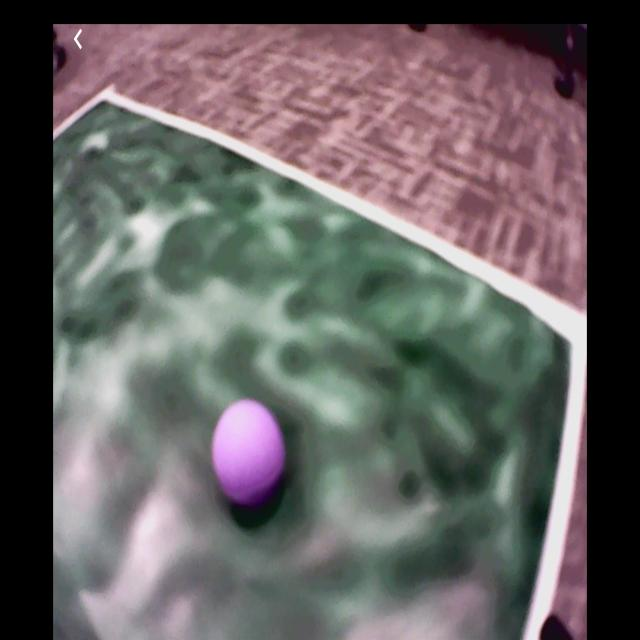ball: (214, 402, 286, 507)
